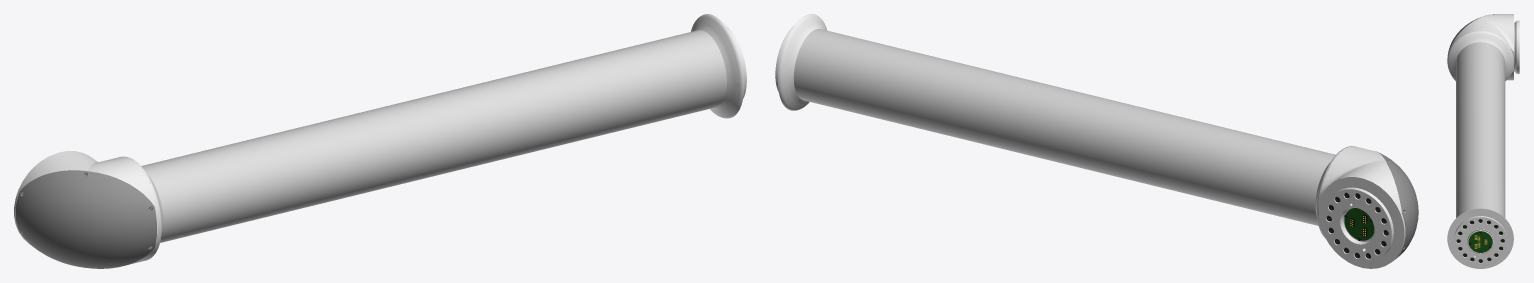
The picture shows the model from 3 angles, left to right: view 1: azimuth 30°, elevation 25°; view 2: azimuth 150°, elevation 25°; view 3: azimuth 270°, elevation 25°; orthographic projection. The views are drawn at different scales.
Parts seen in each view (by area): view 1: L116.001; view 2: L116.001; view 3: L116.001.
Part boxes in pixels (x1,y1,x2,y2): L116.001: [14, 14, 746, 268]; L116.001: [775, 14, 1418, 268]; L116.001: [1447, 14, 1519, 268].
Bounding box in the file's own units: 0.8627 × 0.116 × 0.126.
